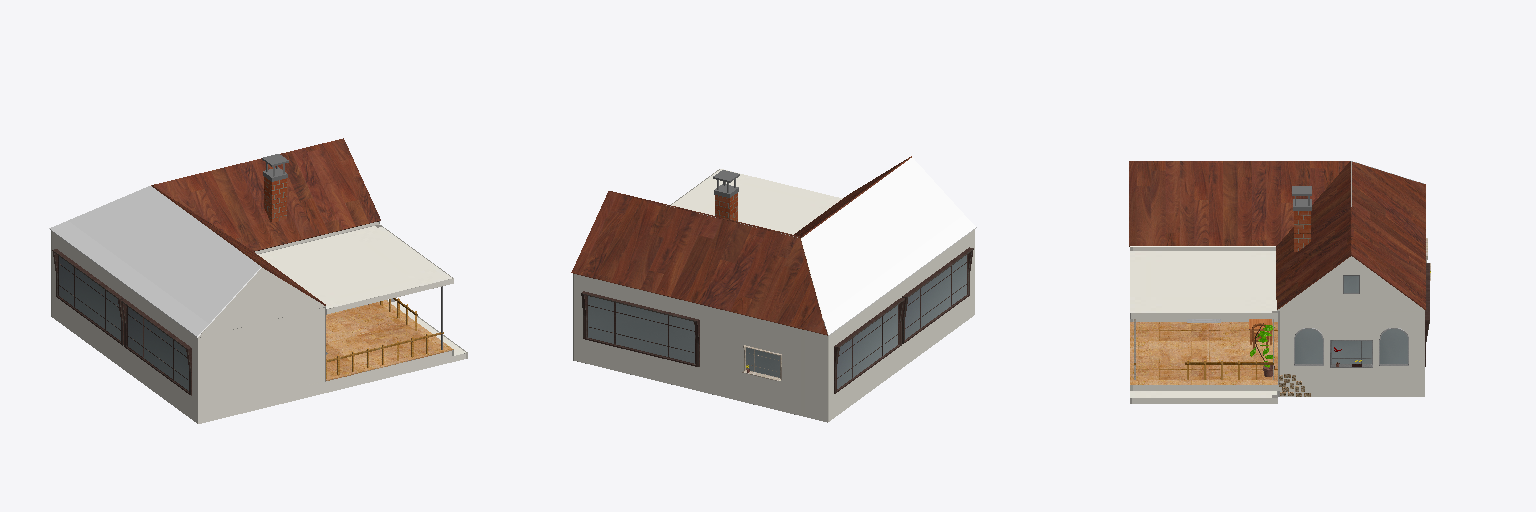
3 views of the same model, side by side, from view 1: azimuth 30°, elevation 25°; view 2: azimuth 150°, elevation 25°; view 3: azimuth 270°, elevation 25° (orthographic).
Parts seen in each view (by area): view 1: pCube1159_Malla.079, pCube1154_Malla.074, pCube1153_Malla.073, pCube1160_Malla.080, pCube79_Malla.056, pCube1168_Malla.088, pCube1169_Malla.089, pCube62_Malla.041, pCube61_Malla.040, pCube1152_Malla.072, pCube68_Malla.048; view 2: pCube1159_Malla.079, pCube1155_Malla.075, pCube1154_Malla.074, pCube1166_Malla.086, pCube1169_Malla.089, pCube1168_Malla.088, pCube31_Malla.022, pCube61_Malla.040, pCube62_Malla.041, pCube1152_Malla.072, pCube1167_Malla.087; view 3: pCube1159_Malla.079, pCube1152_Malla.072, pCube1155_Malla.075, pCube1160_Malla.080, pCube1153_Malla.073, pCube79_Malla.056, pCube1164_Malla.084, pCube1165_Malla.085, pCube1163_Malla.083, pCube68_Malla.048.
Boxes of the visible parts, box(x1,y1,x2,y2) form: pCube1159_Malla.079: box(51, 221, 467, 423); pCube1154_Malla.074: box(49, 186, 261, 337); pCube1153_Malla.073: box(153, 138, 380, 251); pCube1160_Malla.080: box(326, 300, 453, 380); pCube79_Malla.056: box(165, 196, 325, 337); pCube1168_Malla.088: box(59, 256, 120, 340); pCube1169_Malla.089: box(128, 307, 188, 390); pCube62_Malla.041: box(121, 299, 191, 395); pCube61_Malla.040: box(52, 249, 123, 345); pCube1152_Malla.072: box(152, 185, 325, 305); pCube68_Malla.048: box(264, 177, 286, 222); pCube1159_Malla.079: box(573, 169, 974, 422); pCube1155_Malla.075: box(571, 191, 827, 335); pCube1154_Malla.074: box(801, 157, 976, 335); pCube1166_Malla.086: box(588, 296, 694, 363); pCube1169_Malla.089: box(905, 255, 966, 339); pCube1168_Malla.088: box(837, 305, 897, 388); pCube31_Malla.022: box(581, 291, 699, 366); pCube61_Malla.040: box(834, 298, 904, 393); pCube62_Malla.041: box(902, 247, 973, 343); pCube1152_Malla.072: box(794, 156, 911, 237); pCube1167_Malla.087: box(746, 348, 779, 377); pCube1159_Malla.079: box(1130, 247, 1424, 403); pCube1152_Malla.072: box(1129, 161, 1349, 246); pCube1155_Malla.075: box(1352, 162, 1425, 309); pCube1160_Malla.080: box(1130, 322, 1277, 384); pCube1153_Malla.073: box(1276, 161, 1351, 309); pCube79_Malla.056: box(1130, 162, 1424, 310); pCube1164_Malla.084: box(1295, 329, 1322, 363); pCube1165_Malla.085: box(1380, 329, 1407, 363); pCube1163_Malla.083: box(1332, 341, 1371, 363); pCube68_Malla.048: box(1294, 211, 1310, 251).
Bounding box in the file's own units: 0.185 × 0.1047 × 0.1763.
36 materials, 28 textured.